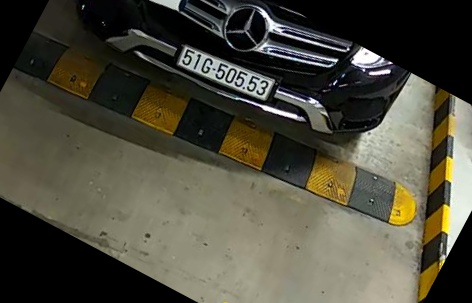plate: (175, 42, 290, 116)
